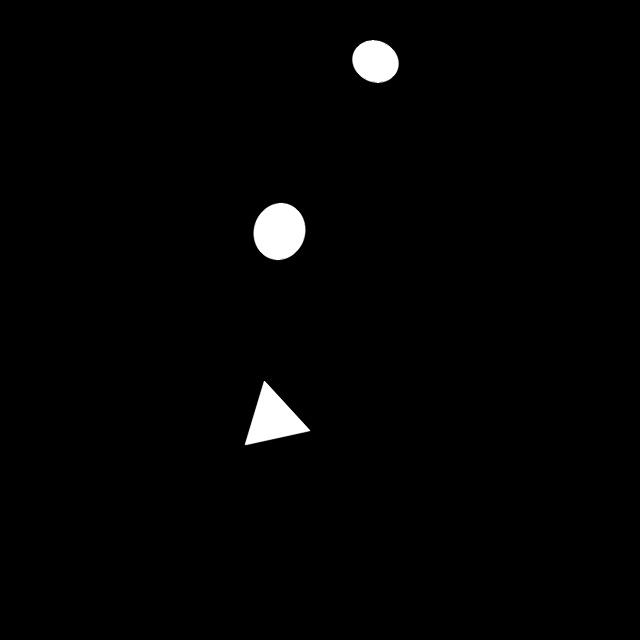Circle: (247, 197, 314, 270), (342, 31, 404, 87)
Triangle: (234, 368, 318, 463)
